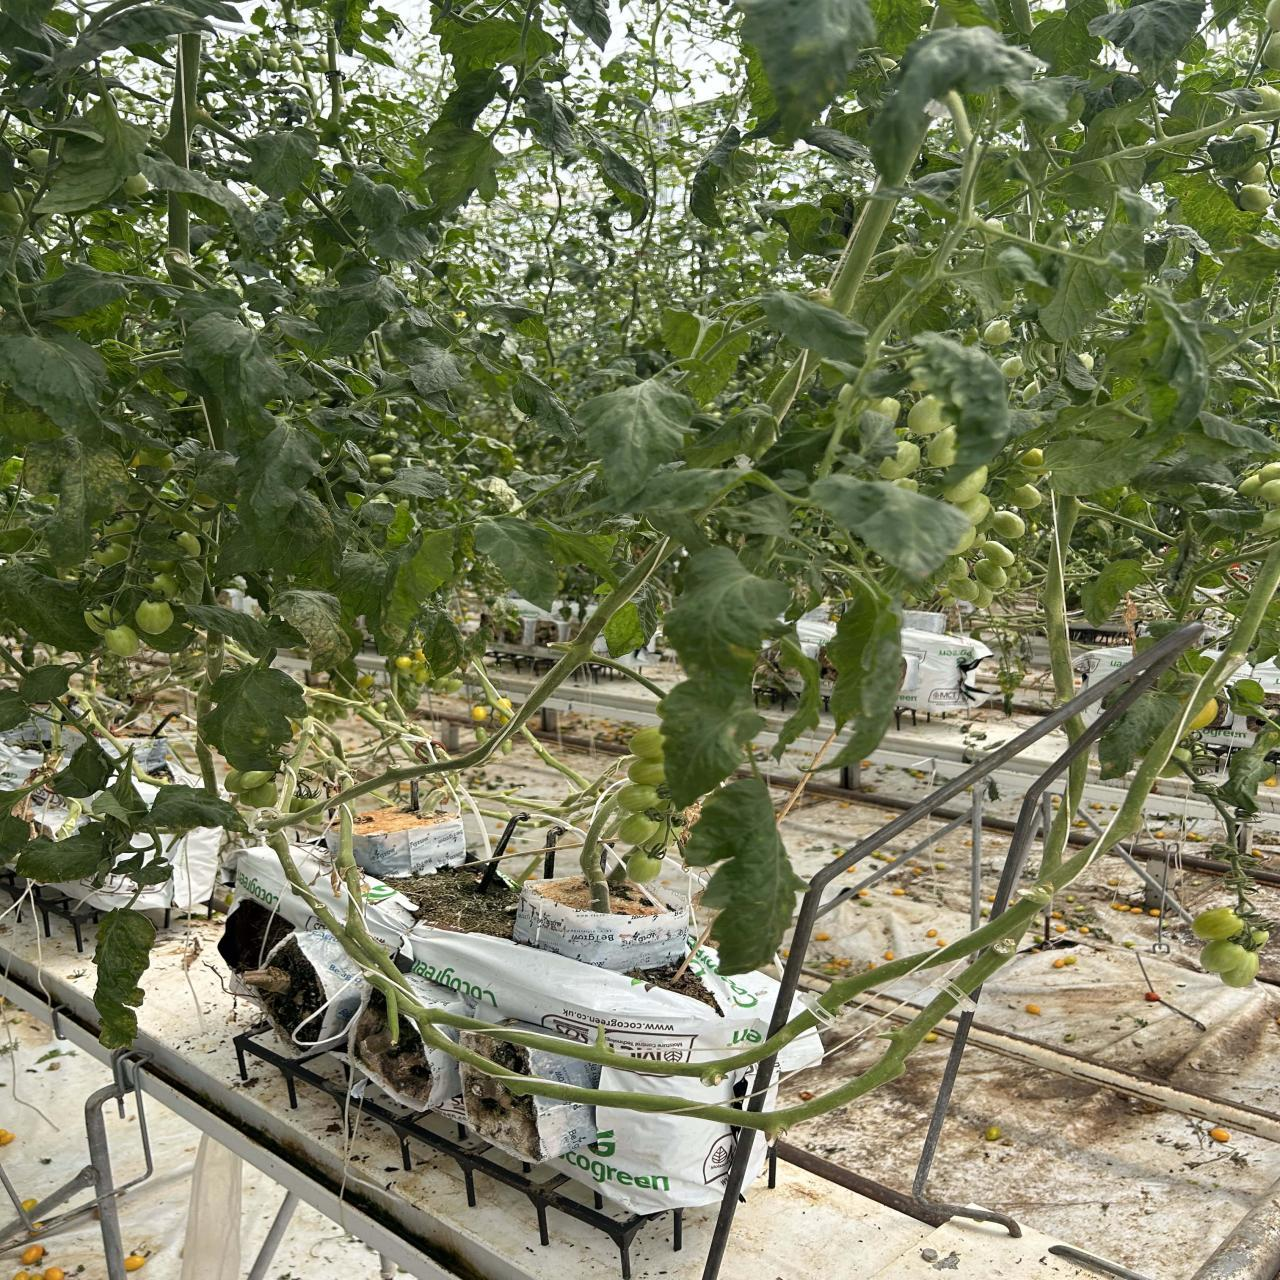Rugose leaf: (22, 436, 128, 565), (369, 531, 454, 654), (94, 910, 156, 1048), (380, 531, 454, 645), (271, 578, 352, 672), (1080, 559, 1148, 626), (278, 490, 334, 567), (400, 338, 463, 396), (416, 605, 464, 676)
